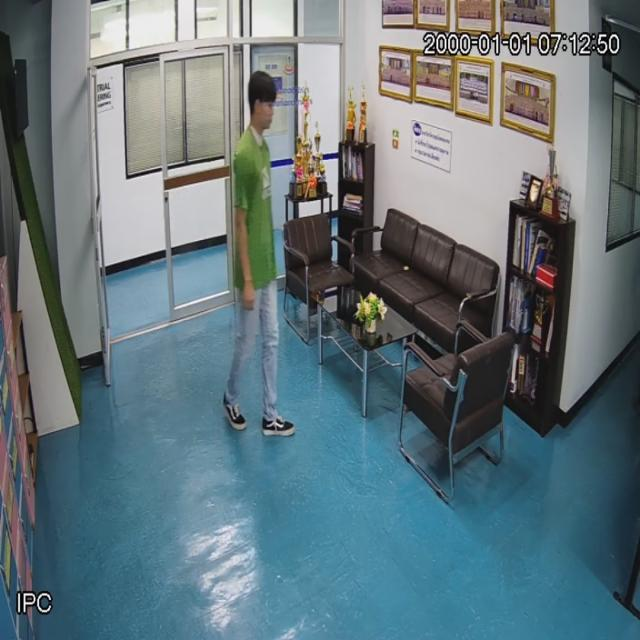normal: (222, 72, 284, 431)
